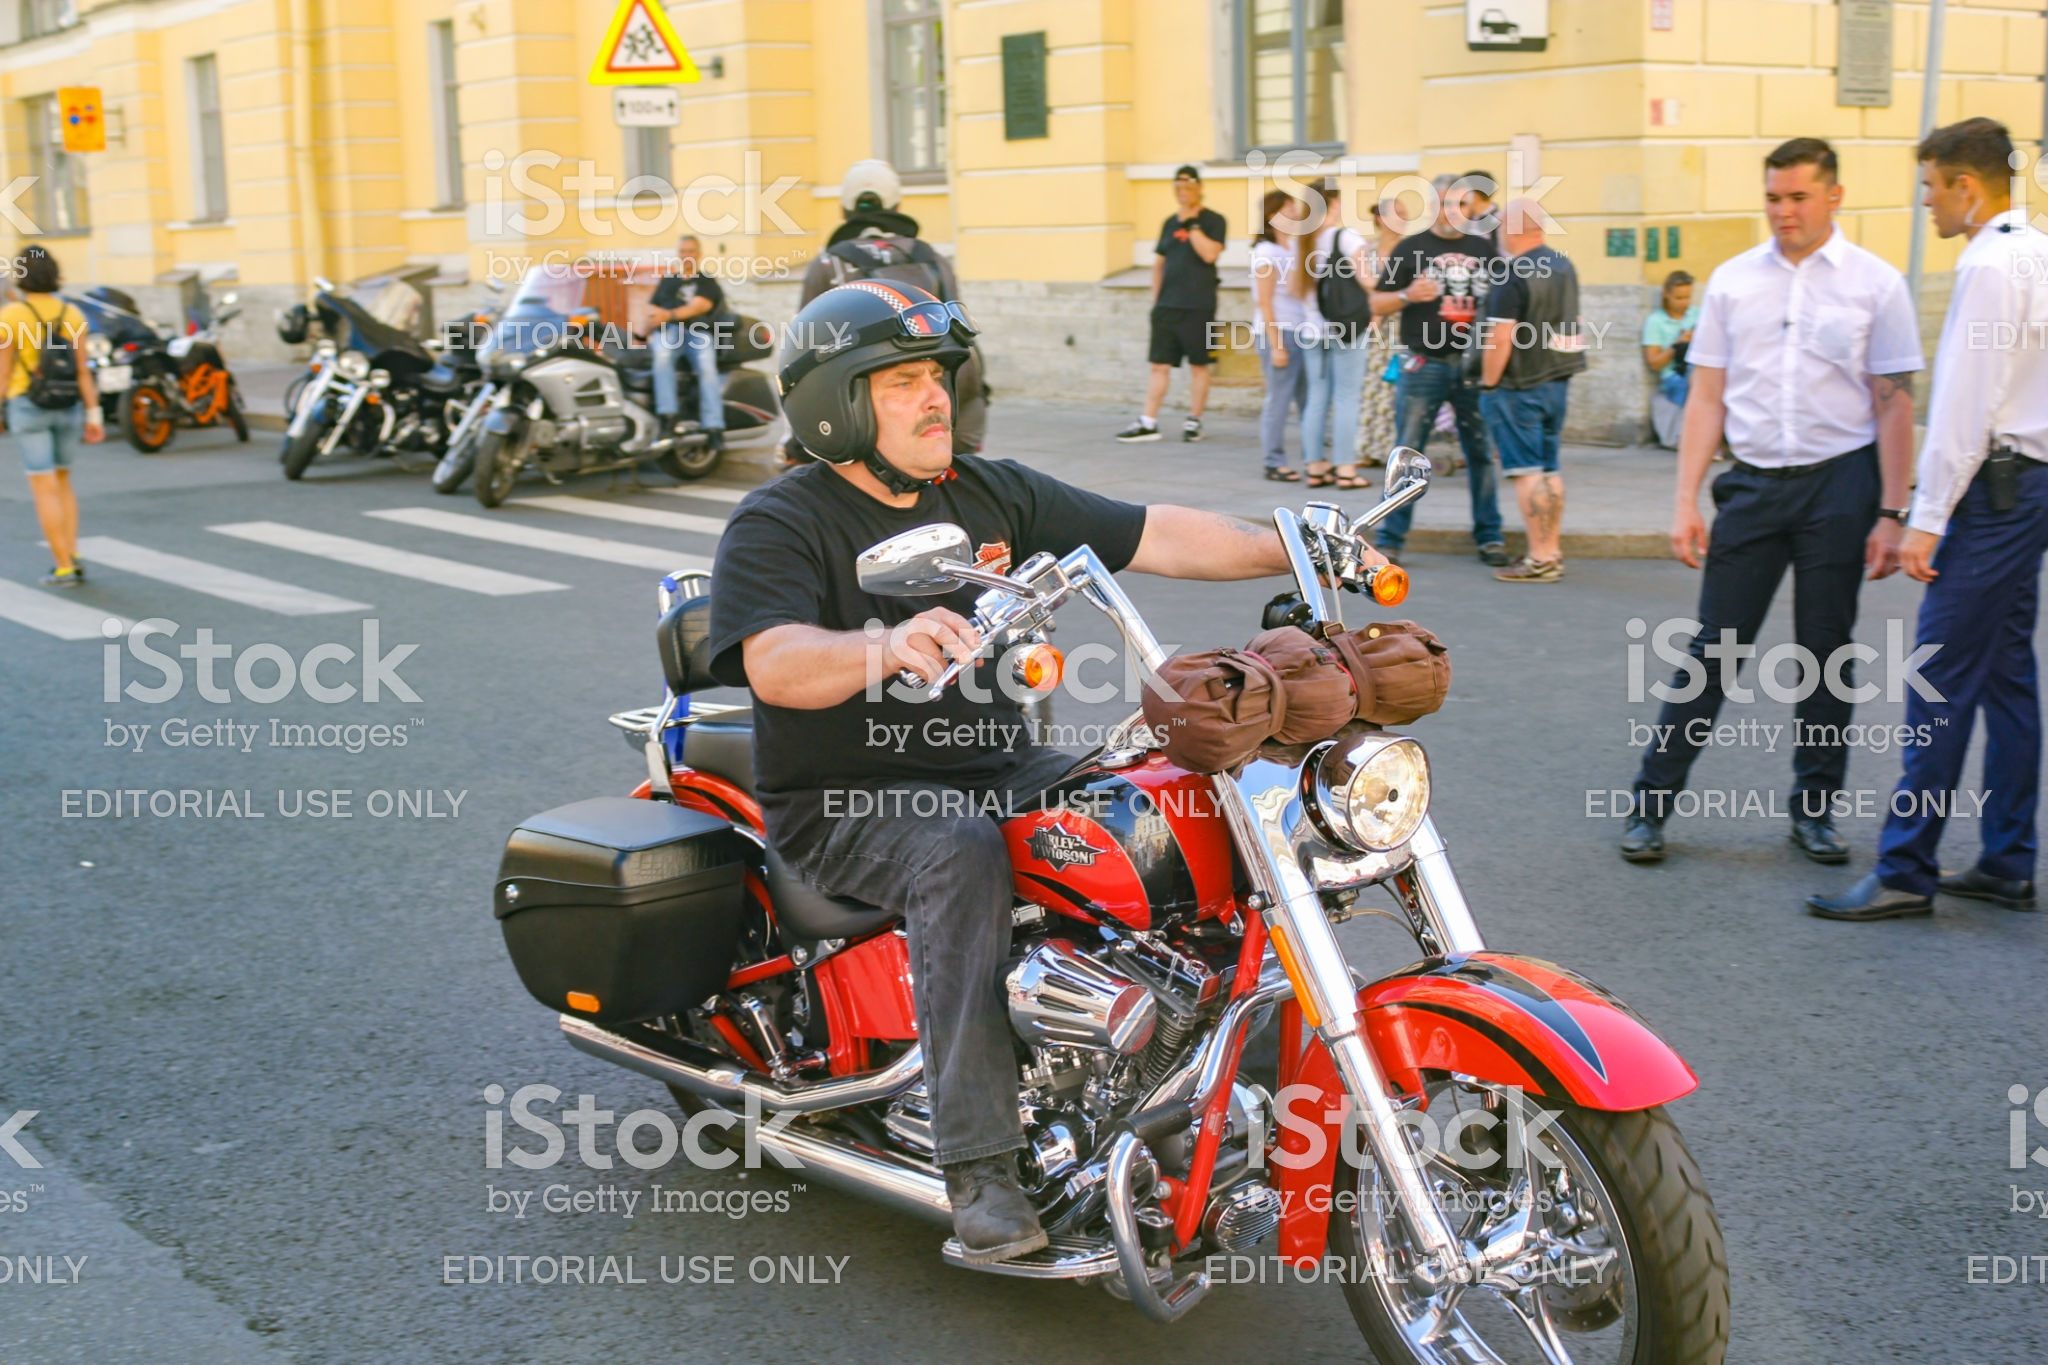helmet: (774, 271, 962, 471)
